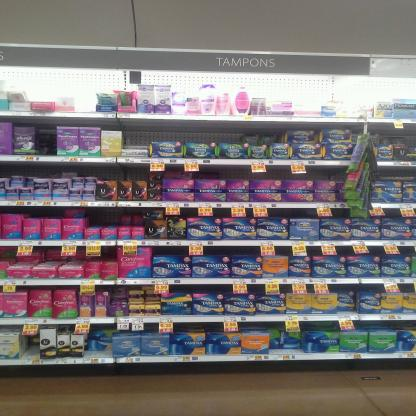empty_space: (23, 336, 39, 365)
